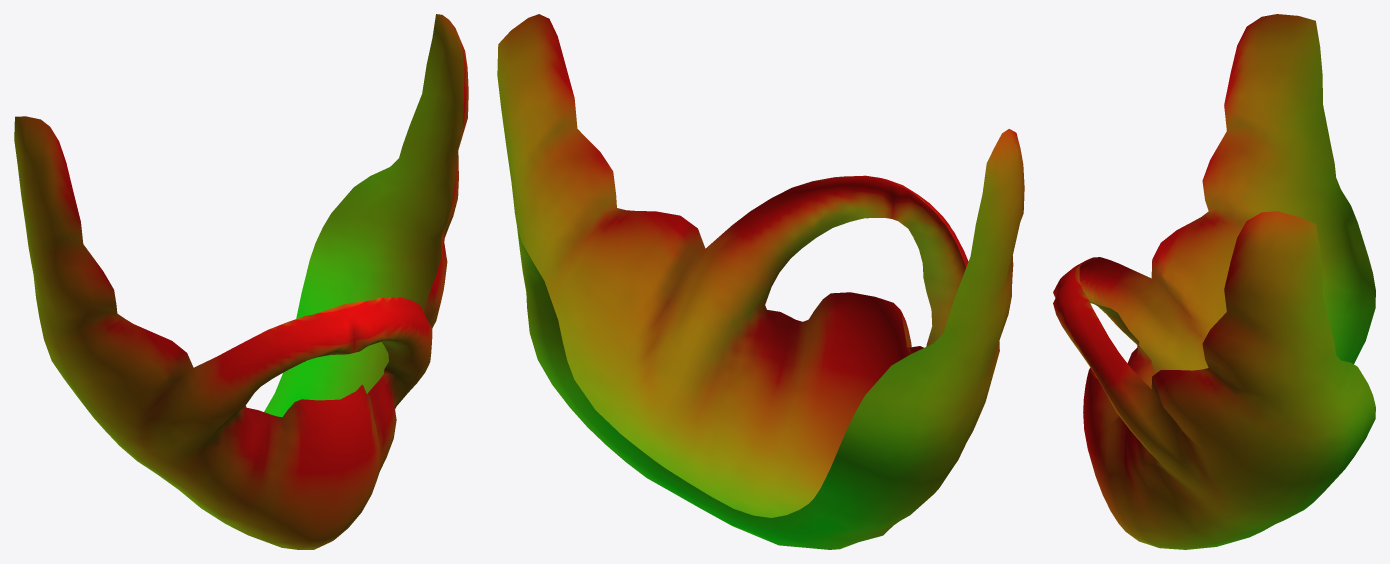
Rendered from LowerFace_PointedBeard.obj.
The picture shows the model from 3 angles, left to right: view 1: azimuth 30°, elevation 25°; view 2: azimuth 150°, elevation 25°; view 3: azimuth 270°, elevation 25°; orthographic projection. The views are drawn at different scales.
Visible parts, largest first — view 1: LowerFace_PointedBeard_0; view 2: LowerFace_PointedBeard_0; view 3: LowerFace_PointedBeard_0.
Part boxes in pixels (left/top/right/bottom): LowerFace_PointedBeard_0: left=14, top=14, right=468, bottom=549; LowerFace_PointedBeard_0: left=497, top=14, right=1024, bottom=549; LowerFace_PointedBeard_0: left=1053, top=14, right=1375, bottom=549.
Bounding box in the file's own units: 0.1711 × 0.1669 × 0.1136.
Materials: 1 (1 with a texture image).
